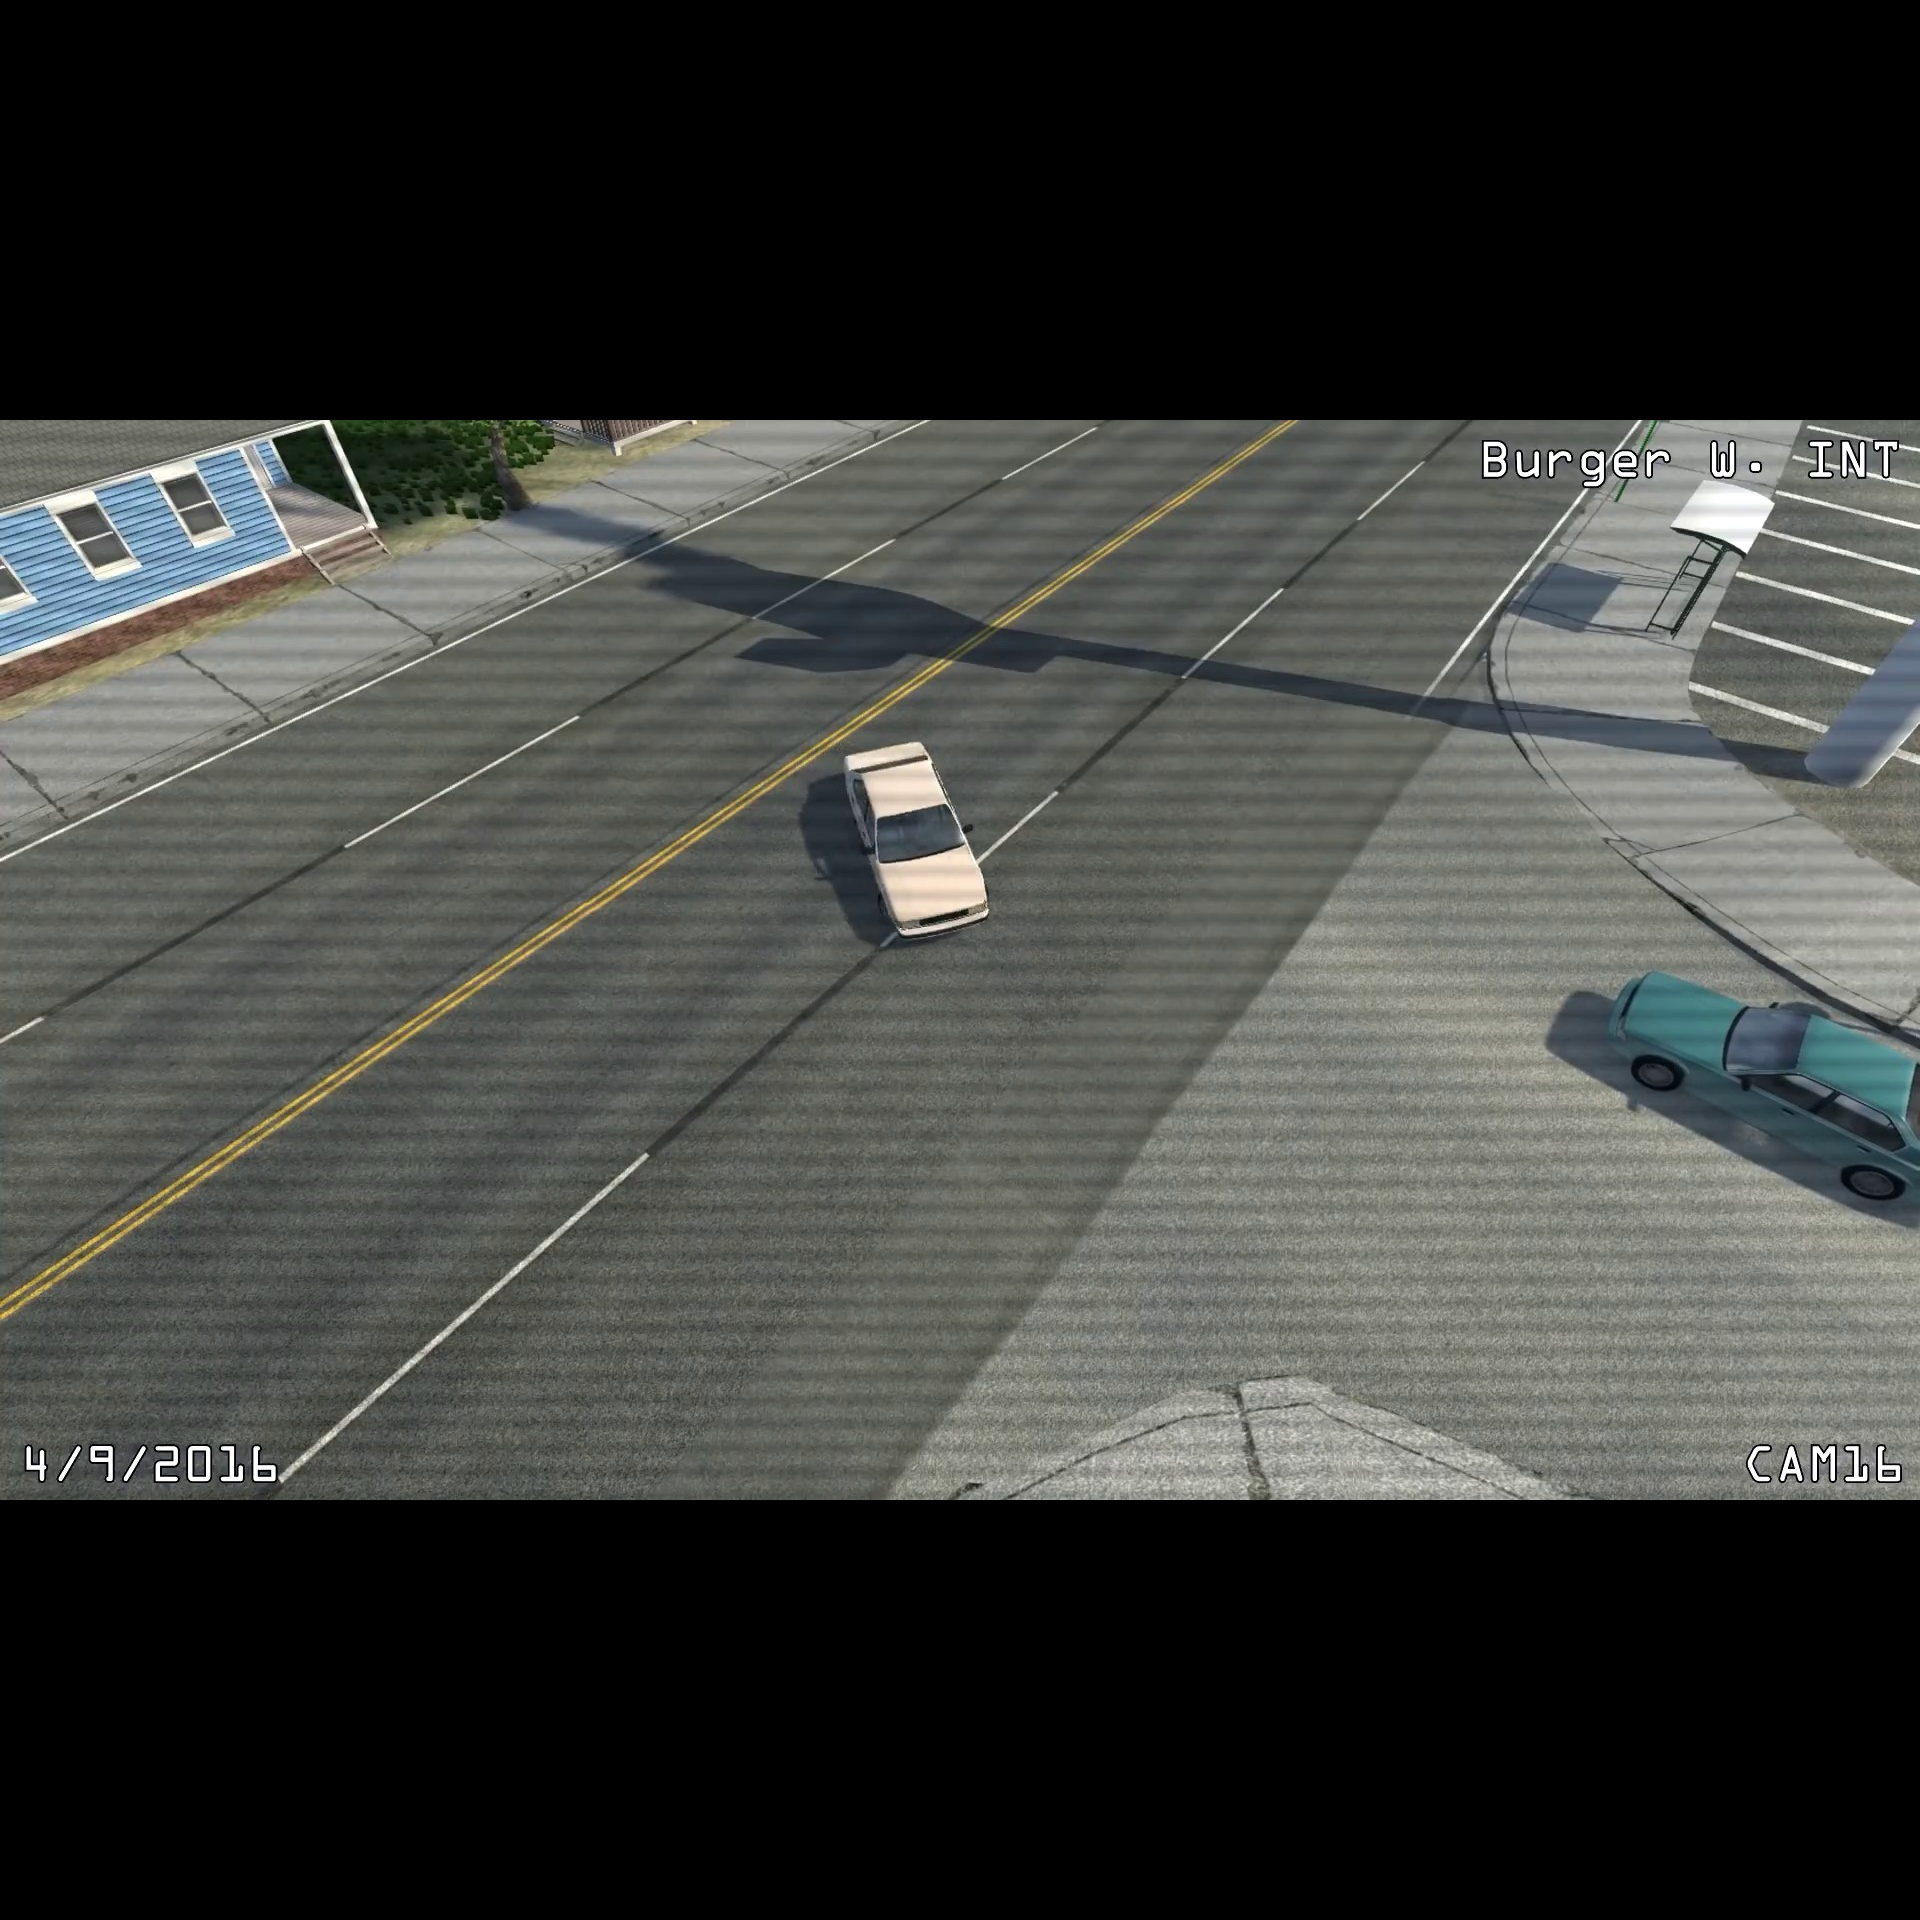vehicle: (1595, 964, 1920, 1206), (835, 724, 1000, 951)
